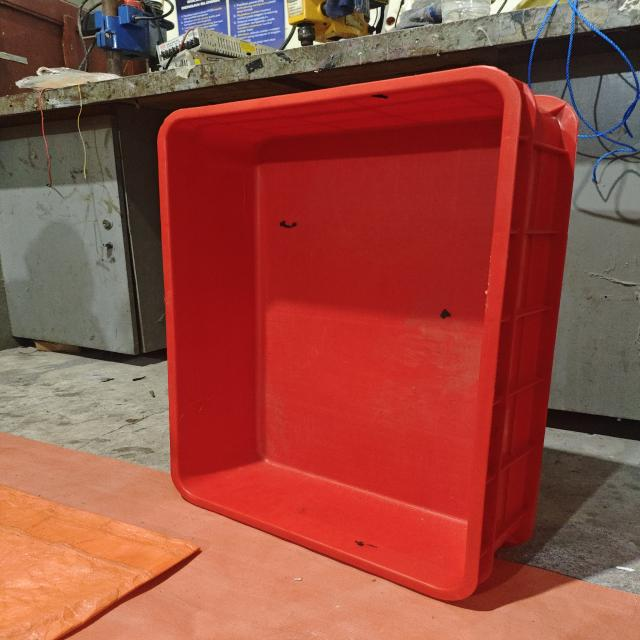red plastic box: (156, 65, 578, 602)
